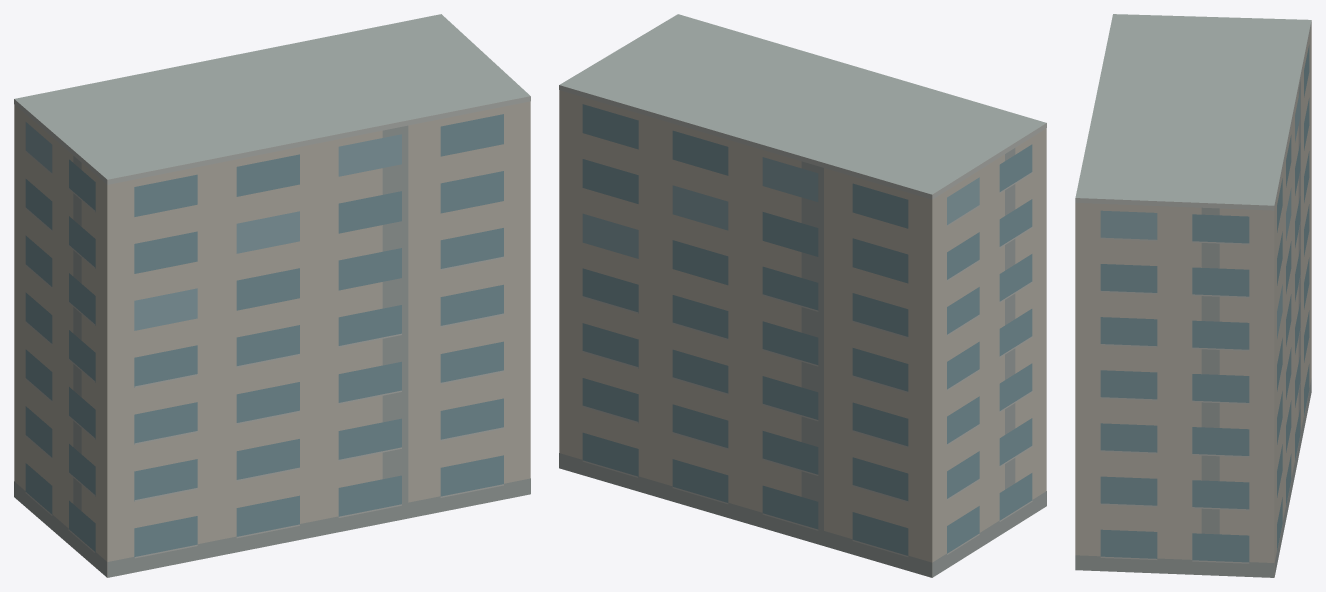
File: survey-upis-32769958.glb
3 views of the same model, side by side, from view 1: azimuth 30°, elevation 25°; view 2: azimuth 150°, elevation 25°; view 3: azimuth 270°, elevation 25° (orthographic). The views are drawn at different scales.
Parts seen in each view (by area): view 1: survey-upis-32769958.tmp; view 2: survey-upis-32769958.tmp; view 3: survey-upis-32769958.tmp.
Part boxes in pixels (x1,y1,x2,y2): survey-upis-32769958.tmp: (14, 14, 530, 577); survey-upis-32769958.tmp: (559, 14, 1046, 577); survey-upis-32769958.tmp: (1075, 14, 1311, 577).
Bounding box in the file's own units: 20.56 × 18.6 × 10.71.
